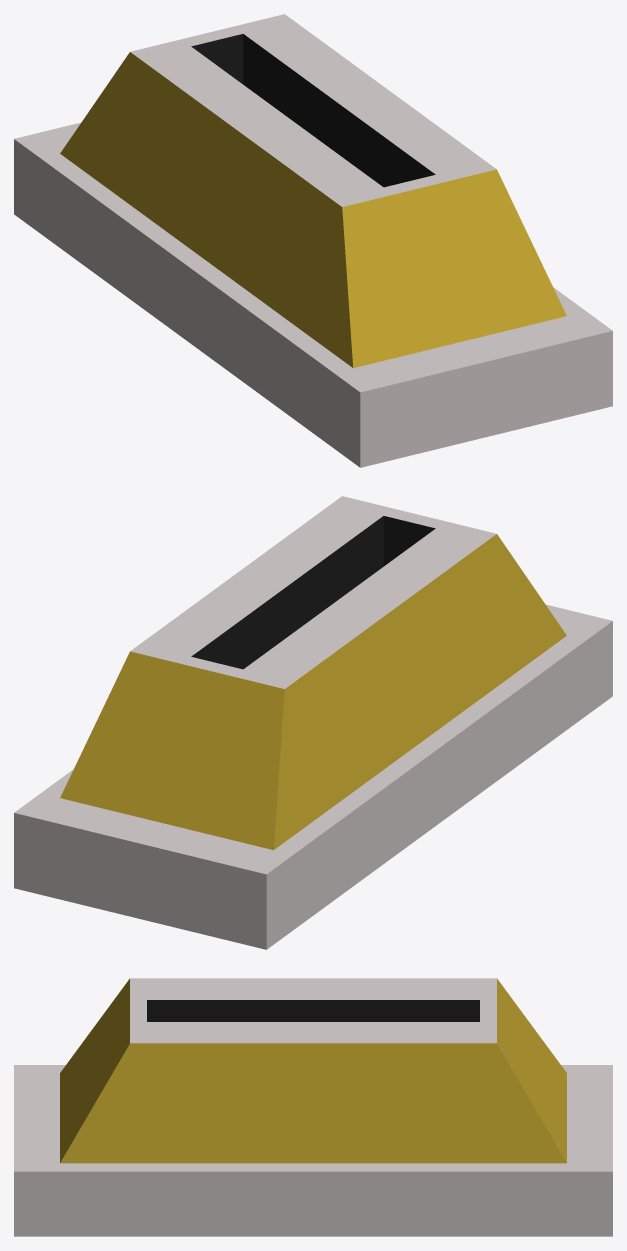
Rendered from LeverBase.fbx.
The picture shows the model from 3 angles, top to bottom: view 1: azimuth 30°, elevation 25°; view 2: azimuth 150°, elevation 25°; view 3: azimuth 270°, elevation 25°; orthographic projection. The views are drawn at different scales.
Visible parts, largest first — view 1: Base; view 2: Base; view 3: Base.
Boxes of the visible parts, box(x1,y1,x2,y2) form: Base: box(14, 14, 612, 467); Base: box(14, 496, 612, 949); Base: box(14, 978, 612, 1236).
Bounding box in the file's own units: 0.709 × 0.5357 × 1.68.
